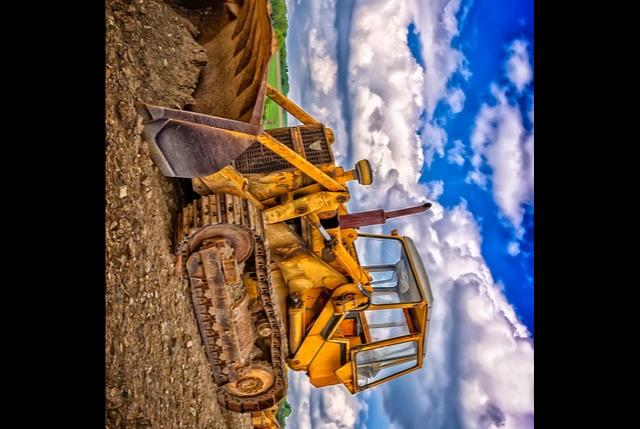Non_Gorille: (147, 0, 529, 429)
